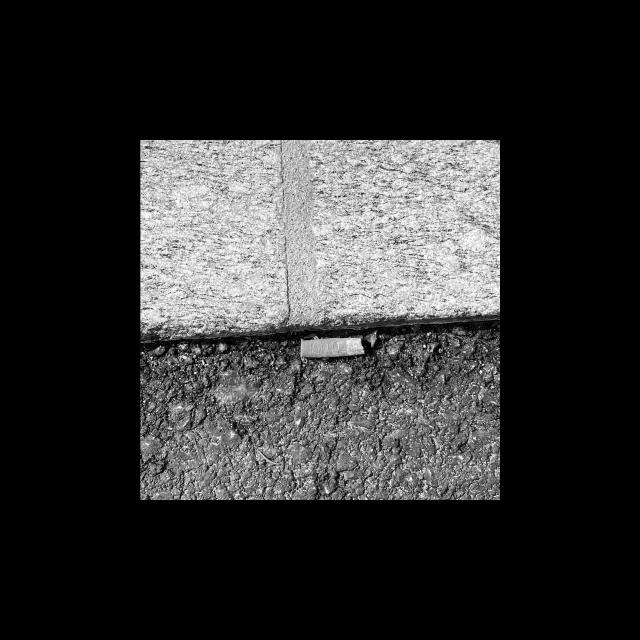cigarette: (299, 338, 365, 358)
